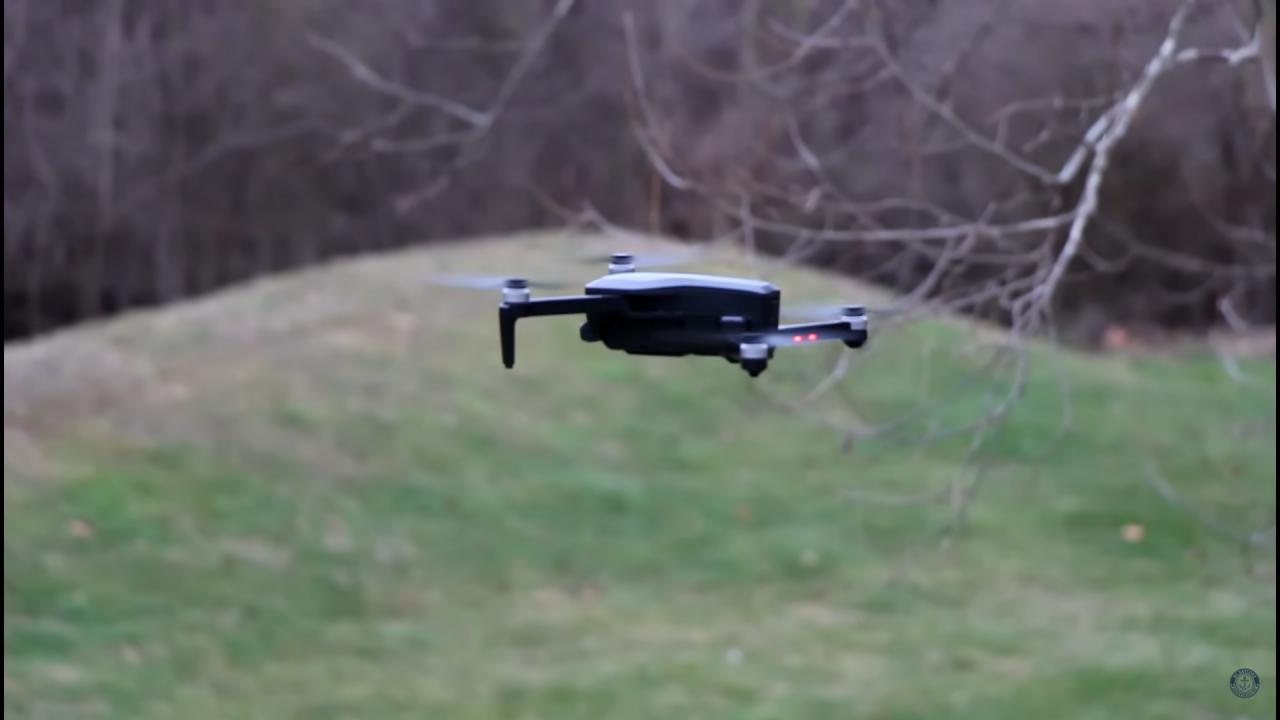Drone: (401, 237, 942, 394)
